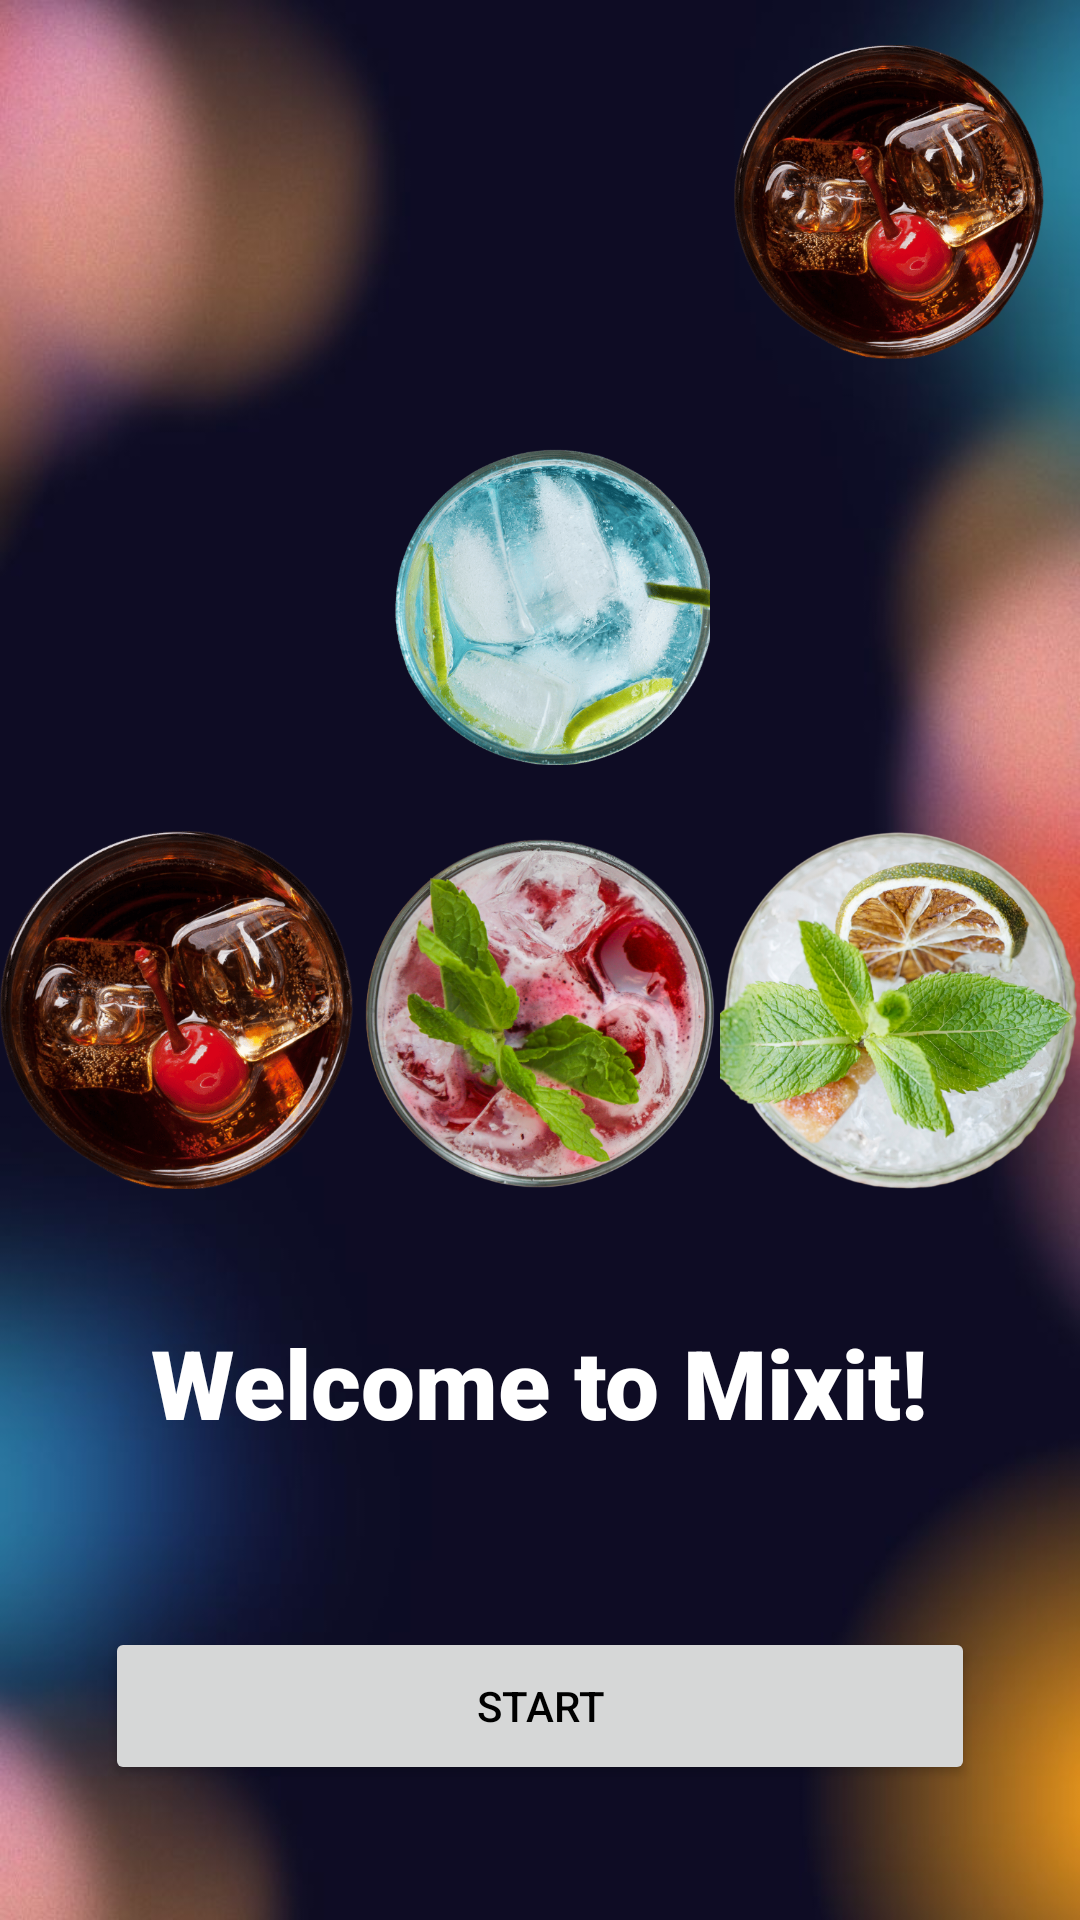

Screen size 1080px×1920px. Icon name, then its center in pixels as point (x, y):
glasscocktailblue: point (552, 607)
glasscocktailpink: point (540, 1013)
glasscocktailred: point (892, 202), point (176, 1010)
